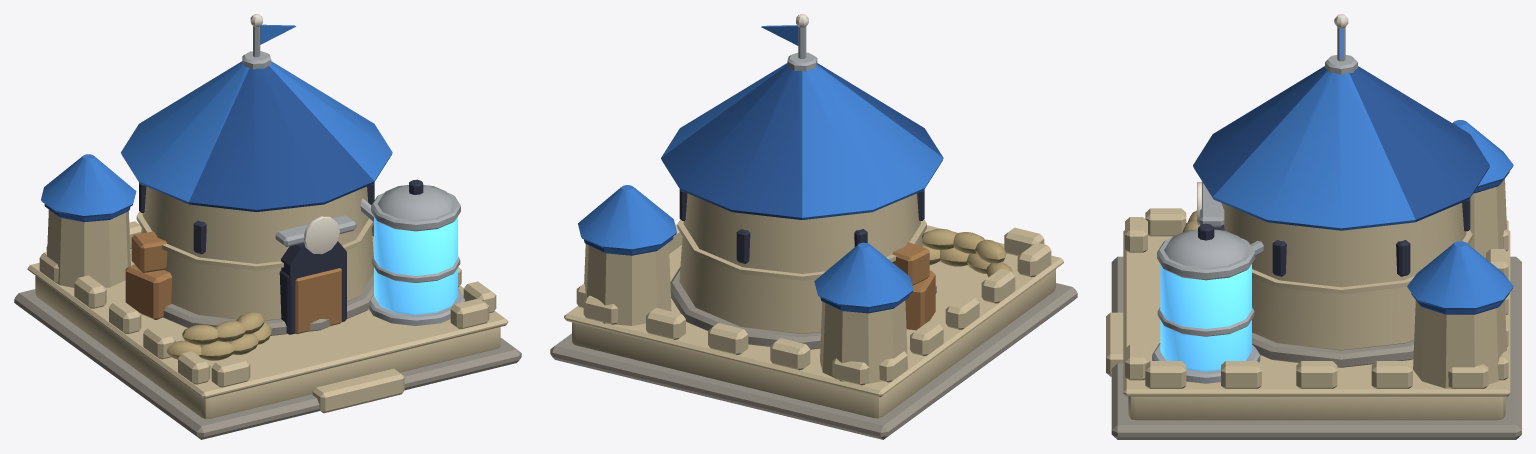
3 views of the same model, side by side, from view 1: azimuth 30°, elevation 25°; view 2: azimuth 150°, elevation 25°; view 3: azimuth 270°, elevation 25° (orthographic). The views are drawn at different scales.
Visible parts, largest first — view 1: HQ; view 2: HQ; view 3: HQ.
Boxes of the visible parts, bbox=[...] form: HQ: bbox=[14, 14, 521, 439]; HQ: bbox=[550, 14, 1077, 439]; HQ: bbox=[1106, 14, 1521, 439].
Size of the model in its own units: 5 by 4.59 by 5.07.
